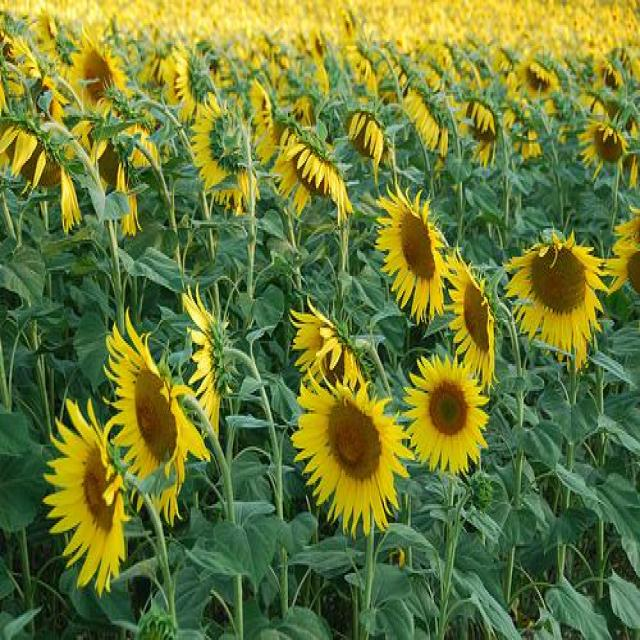sunflower: (104, 306, 210, 527), (291, 363, 415, 536), (45, 399, 127, 590), (506, 236, 614, 362), (376, 173, 447, 327), (402, 354, 488, 472), (0, 121, 82, 232), (66, 117, 138, 235), (182, 281, 235, 438), (290, 296, 371, 398), (438, 248, 500, 380), (190, 90, 256, 210), (274, 135, 352, 225), (66, 30, 126, 124), (9, 37, 68, 121), (603, 207, 640, 299), (456, 90, 496, 169), (404, 89, 448, 158), (347, 107, 392, 173), (578, 121, 628, 174), (254, 78, 283, 160), (163, 50, 195, 117), (502, 110, 544, 160), (517, 57, 558, 98), (348, 46, 378, 97), (128, 123, 159, 168), (596, 50, 622, 94)
